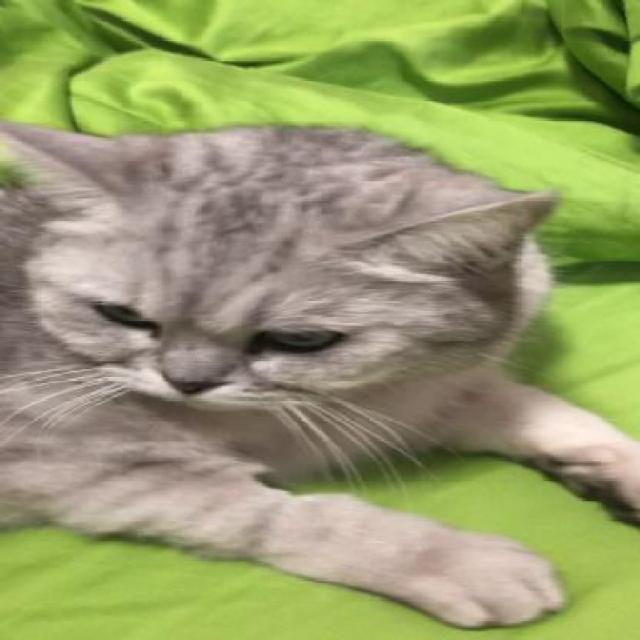cat-face: (7, 126, 564, 414)
